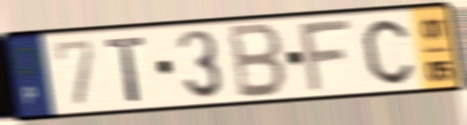3: (175, 28, 225, 102)
7: (50, 37, 98, 109)
B: (228, 21, 289, 102)
C: (360, 17, 416, 87)
F: (297, 16, 355, 96)
T: (103, 34, 149, 104)
